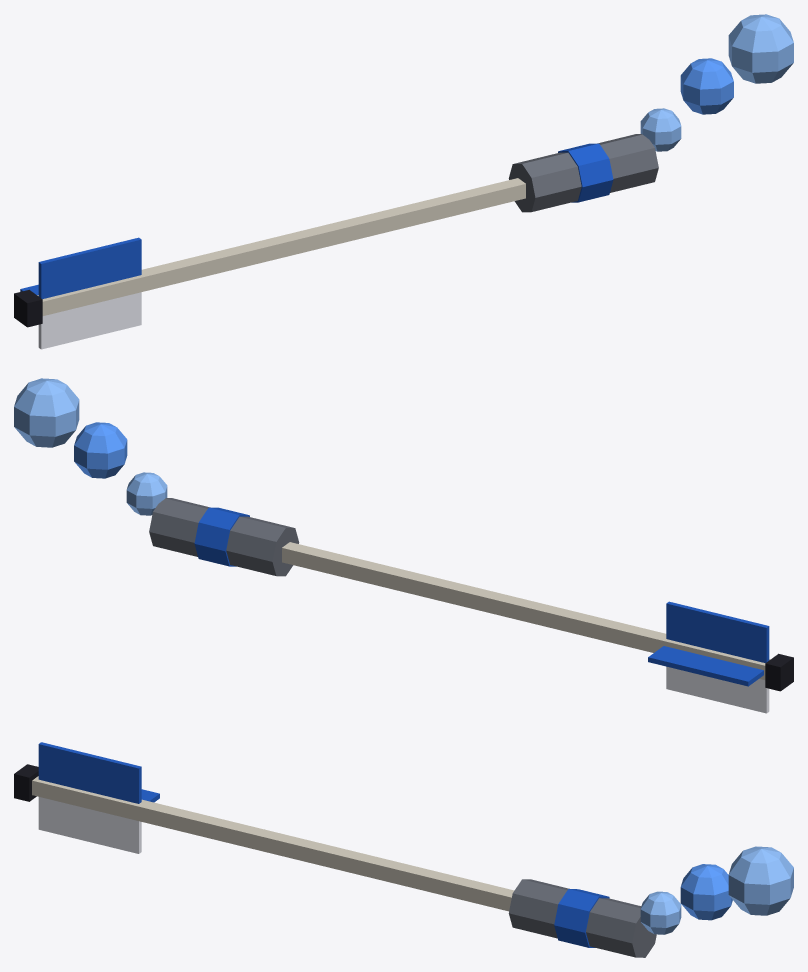
File: fleche_fumigene.glb
3 renders of one model, top to bottom at view 1: azimuth 30°, elevation 25°; view 2: azimuth 150°, elevation 25°; view 3: azimuth 330°, elevation 25°, orthographic.
Parts seen in each view (by area): view 1: p_box.3479, p_cyl.327, p_box.3480, p_sph.621, p_box.3481, p_sph.620, p_cyl.328, p_sph.619, p_box.3483; view 2: p_box.3479, p_cyl.327, p_box.3480, p_sph.621, p_box.3481, p_sph.620, p_box.3482, p_cyl.328, p_sph.619, p_box.3483; view 3: p_box.3479, p_cyl.327, p_box.3480, p_sph.621, p_box.3481, p_sph.620, p_cyl.328, p_sph.619, p_box.3483.
Part boxes in pixels (bbox=[...]): p_box.3479: bbox=[37, 178, 525, 315]; p_cyl.327: bbox=[508, 134, 658, 212]; p_box.3480: bbox=[38, 237, 141, 298]; p_sph.621: bbox=[728, 14, 793, 83]; p_box.3481: bbox=[38, 292, 141, 349]; p_sph.620: bbox=[680, 58, 733, 114]; p_cyl.328: bbox=[558, 143, 613, 202]; p_sph.619: bbox=[640, 108, 681, 151]; p_box.3483: bbox=[14, 289, 42, 327]; p_box.3479: bbox=[282, 542, 770, 679]; p_cyl.327: bbox=[149, 498, 299, 576]; p_box.3480: bbox=[666, 601, 769, 662]; p_sph.621: bbox=[14, 378, 79, 447]; p_box.3481: bbox=[666, 666, 769, 713]; p_sph.620: bbox=[74, 422, 127, 478]; p_box.3482: bbox=[648, 646, 763, 686]; p_cyl.328: bbox=[194, 507, 249, 566]; p_sph.619: bbox=[126, 472, 167, 515]; p_box.3483: bbox=[765, 653, 793, 691]; p_box.3479: bbox=[32, 776, 514, 911]; p_cyl.327: bbox=[508, 879, 656, 957]; p_box.3480: bbox=[38, 742, 141, 803]; p_sph.621: bbox=[728, 846, 793, 915]; p_box.3481: bbox=[38, 797, 141, 853]; p_sph.620: bbox=[680, 864, 732, 920]; p_cyl.328: bbox=[554, 889, 609, 947]; p_sph.619: bbox=[640, 891, 681, 934]; p_box.3483: bbox=[14, 764, 38, 801].
Size of the model in its own units: 0.998 by 0.193 by 0.082.
